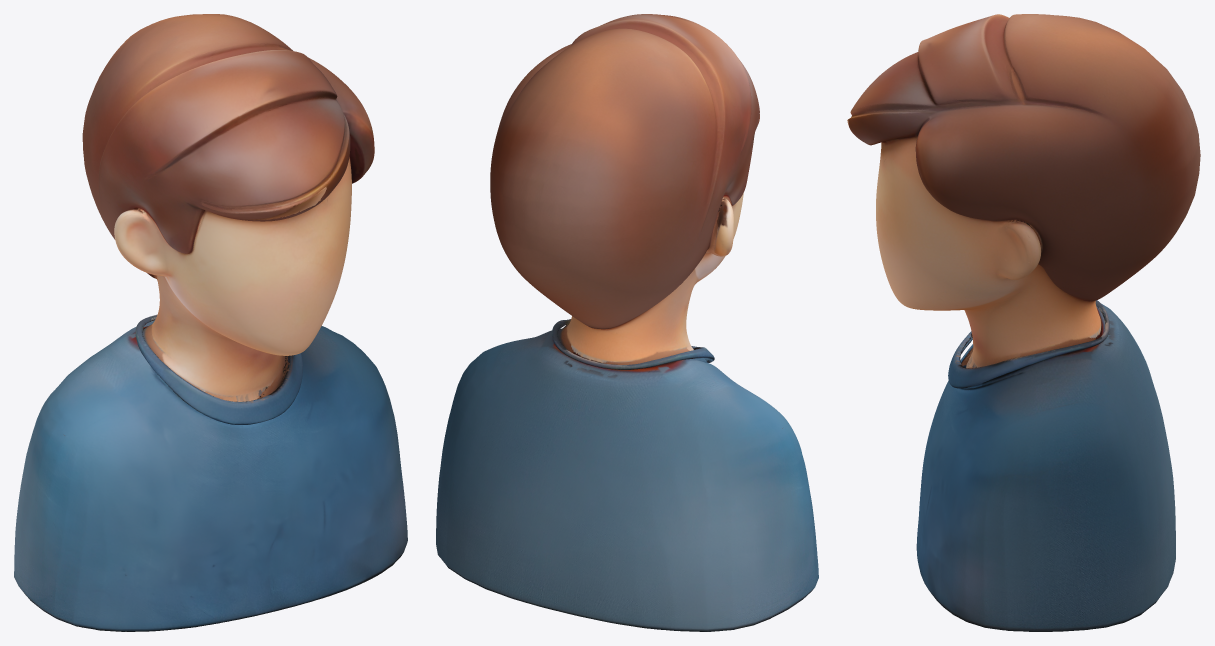
Rendered from student_shaded.glb.
3 views of the same model, side by side, from view 1: azimuth 30°, elevation 25°; view 2: azimuth 150°, elevation 25°; view 3: azimuth 270°, elevation 25° (orthographic). The views are drawn at different scales.
Parts seen in each view (by area): view 1: model; view 2: model; view 3: model.
Part boxes in pixels (x1,y1,x2,y2): model: (14,14,407,631); model: (436,14,818,631); model: (847,14,1200,631).
Bounding box in the file's own units: 1.31 × 1.9 × 1.16.
Materials: 1 (1 with a texture image).
